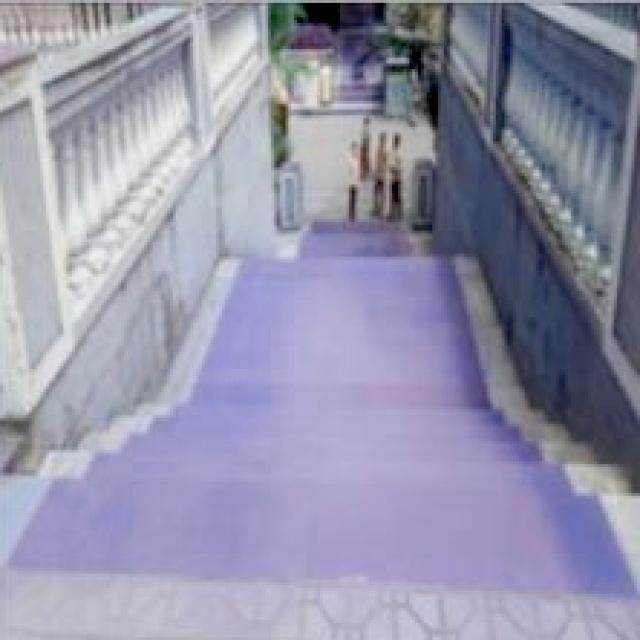downstair: (148, 373, 523, 540)
